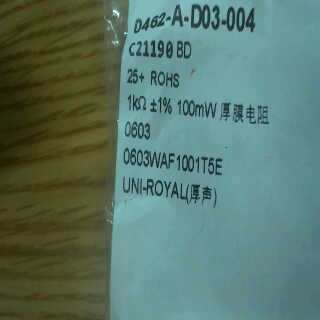1kR: (124, 91, 147, 115)
